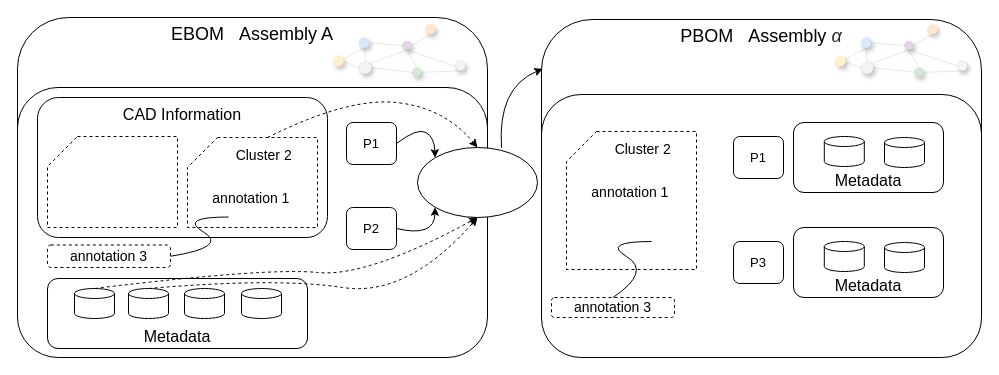
Some shapes in this 999 by 375 pixel diagram are drawn without their labels. Here are the shapes that lost their labels. From the top down, the centre of each, then its label:
At (112,182): "Cluster 1 annotation 2".
At (477,182): "Application".
